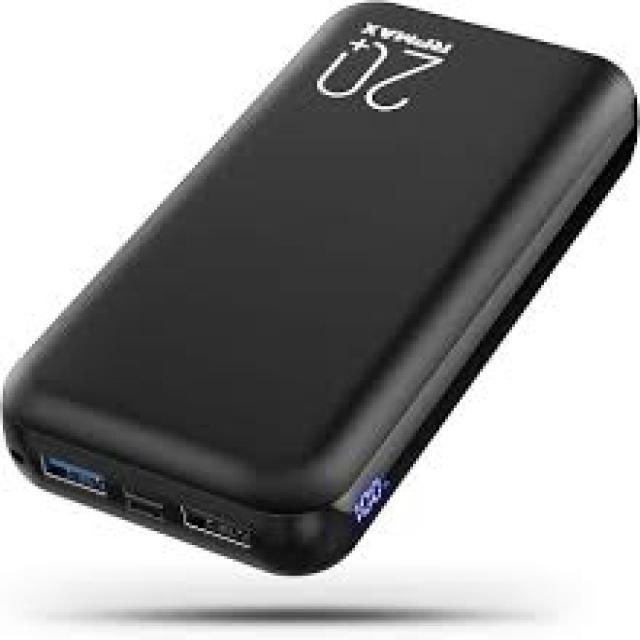portable-charger: (8, 4, 640, 583)
